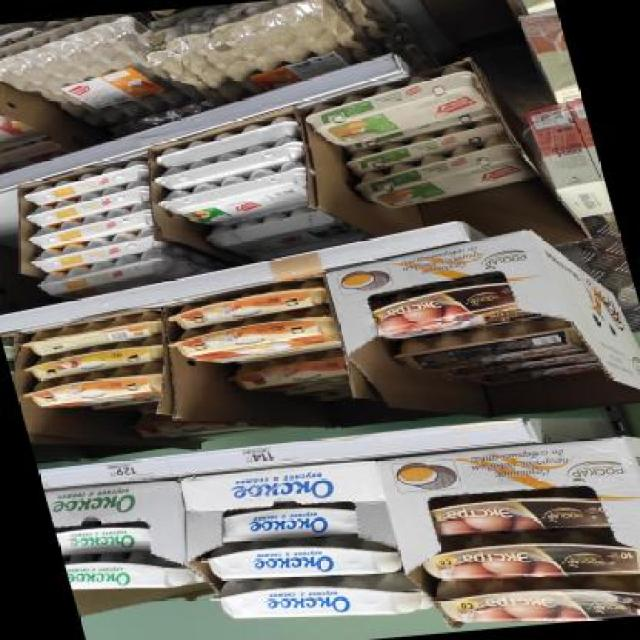Egg: (416, 516, 639, 593), (295, 65, 493, 148), (428, 561, 640, 633), (345, 138, 541, 213), (352, 274, 556, 343), (208, 570, 434, 632), (197, 531, 406, 589), (429, 482, 613, 542), (166, 309, 342, 366), (164, 278, 331, 330), (63, 546, 206, 596), (27, 363, 167, 411), (19, 338, 169, 382), (218, 502, 368, 544), (224, 352, 354, 396), (55, 520, 153, 560)
